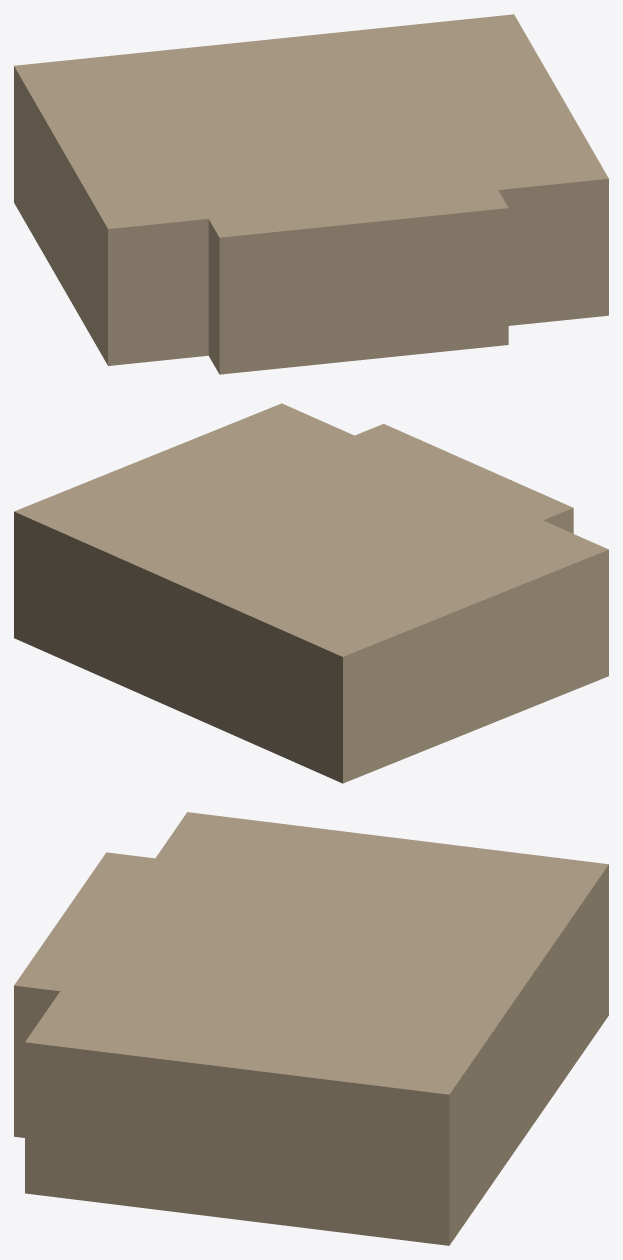
The model's file is bld_49305288.dae.
3 renders of one model, top to bottom at view 1: azimuth 30°, elevation 25°; view 2: azimuth 150°, elevation 25°; view 3: azimuth 270°, elevation 25°, orthographic. The views are drawn at different scales.
Visible parts, largest first — view 1: Longfield Medical Centre; view 2: Longfield Medical Centre; view 3: Longfield Medical Centre.
Part boxes in pixels (x1=…): Longfield Medical Centre: x1=14, y1=14, x2=608, y2=374; Longfield Medical Centre: x1=14, y1=403, x2=608, y2=783; Longfield Medical Centre: x1=14, y1=812, x2=608, y2=1245.
Bounding box in the file's own units: 32.08 × 28.54 × 8.
